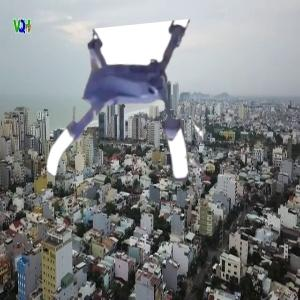drone: (33, 28, 202, 197)
